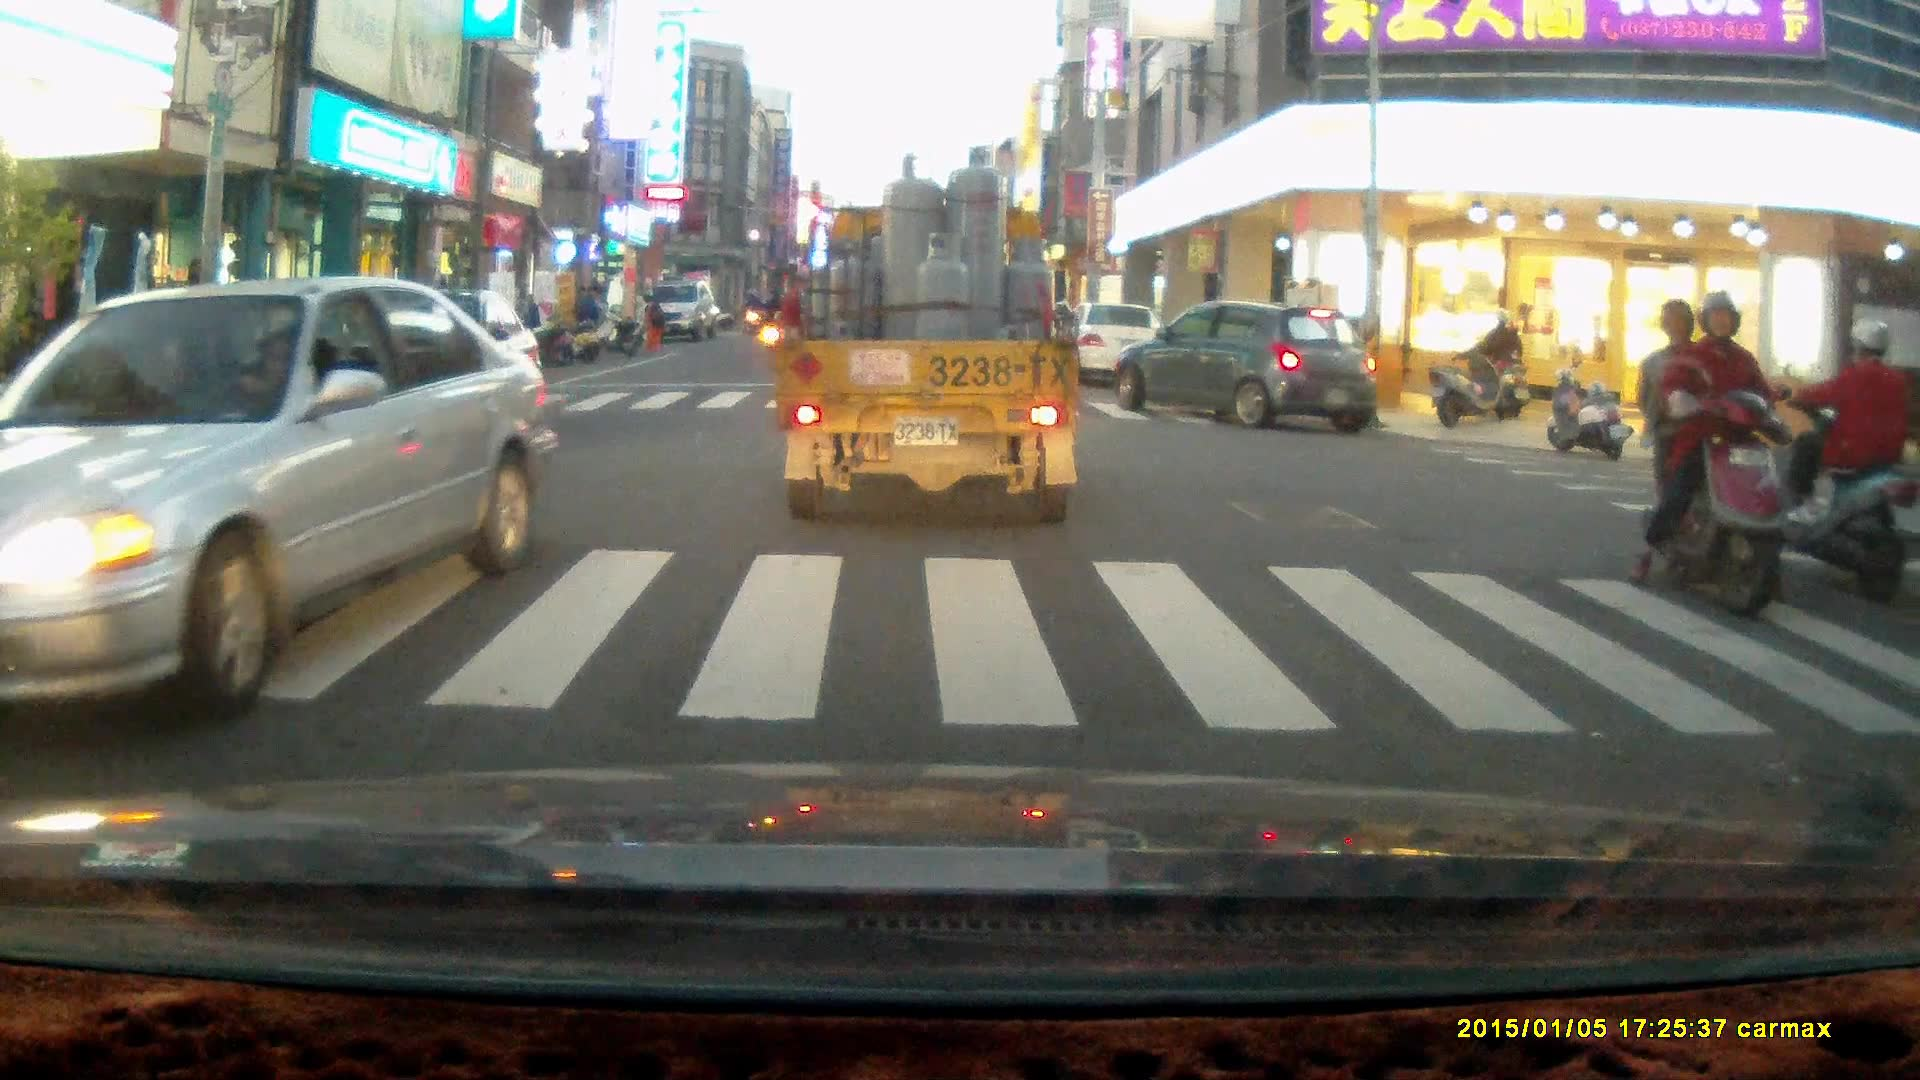pedestrian: (573, 283, 601, 348), (636, 292, 662, 352)
rider: (1622, 291, 1795, 625), (1750, 314, 1915, 606), (1470, 307, 1533, 424)
vehicle: (1, 277, 555, 753), (777, 147, 1082, 527), (1115, 302, 1379, 433), (1053, 304, 1177, 389), (635, 279, 713, 342)
